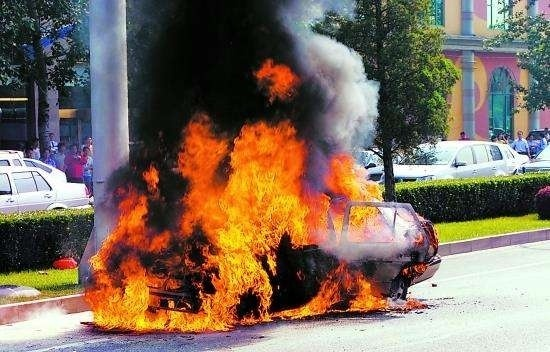fire: (87, 101, 418, 331)
